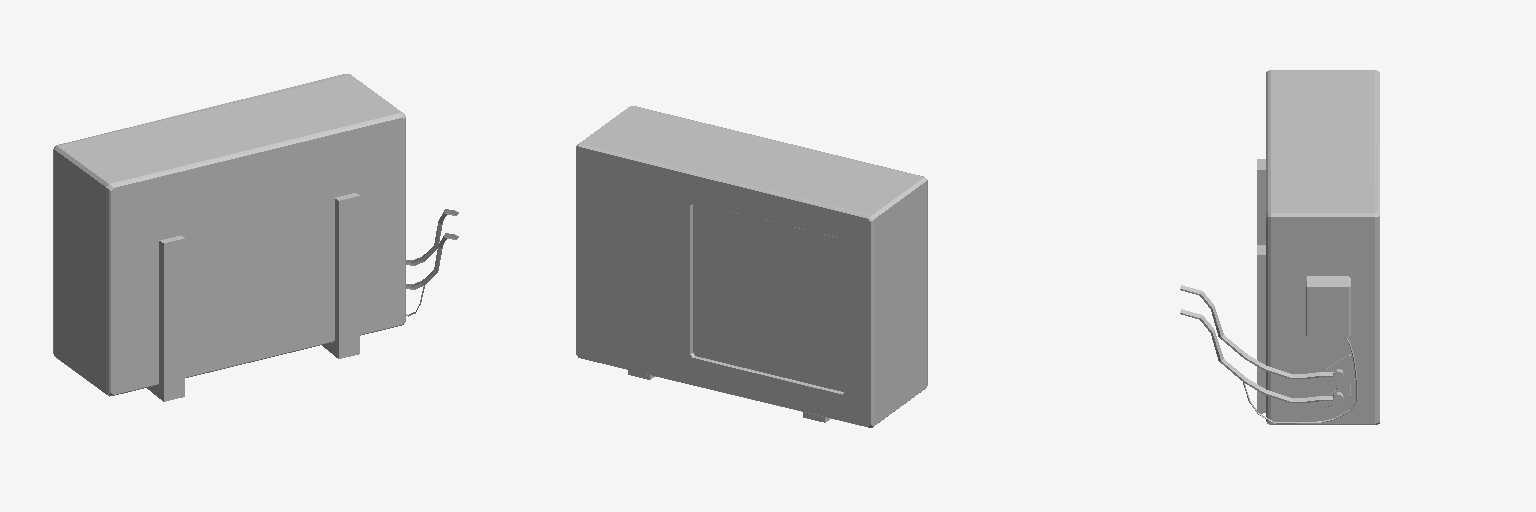
Rendered from aircon.obj.
3 views of the same model, side by side, from view 1: azimuth 30°, elevation 25°; view 2: azimuth 150°, elevation 25°; view 3: azimuth 270°, elevation 25° (orthographic).
Parts seen in each view (by area): view 1: AirCon; view 2: AirCon; view 3: AirCon.
Part boxes in pixels (x1,y1,x2,y2): AirCon: (53, 74, 458, 401); AirCon: (576, 106, 927, 427); AirCon: (1180, 70, 1379, 424).
Bounding box in the file's own units: 82.53 × 57.42 × 46.23.